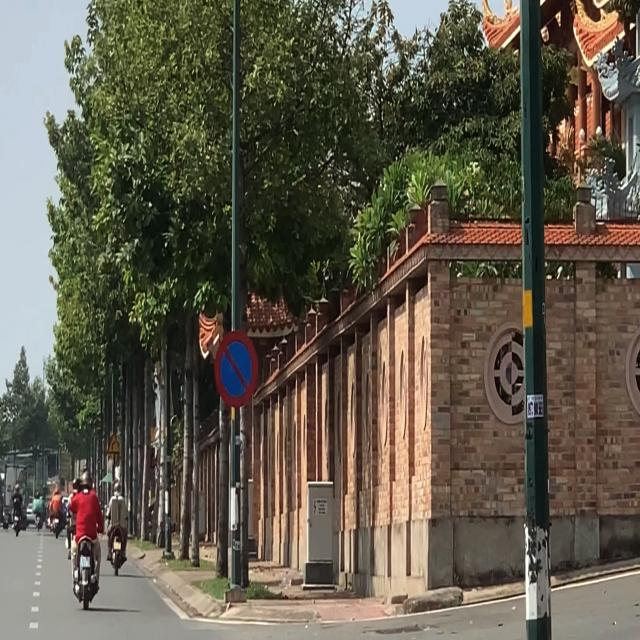Cam do: (213, 329, 261, 411)
Nguy hiem: (108, 435, 122, 458)
